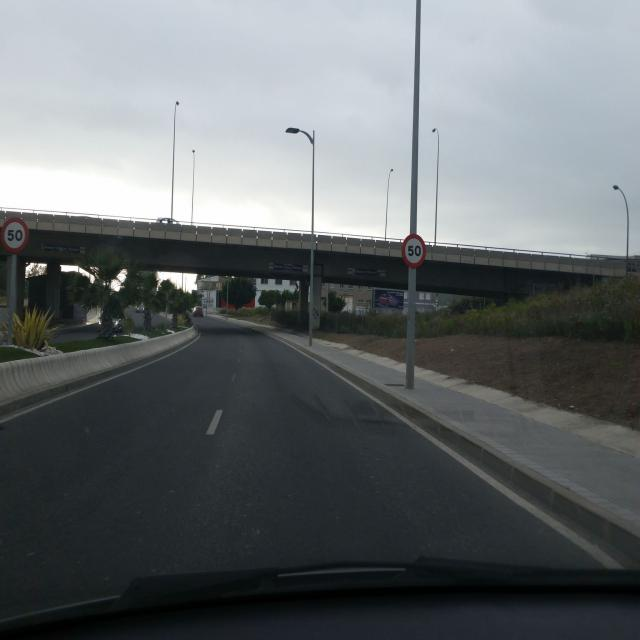car: (192, 306, 205, 318)
